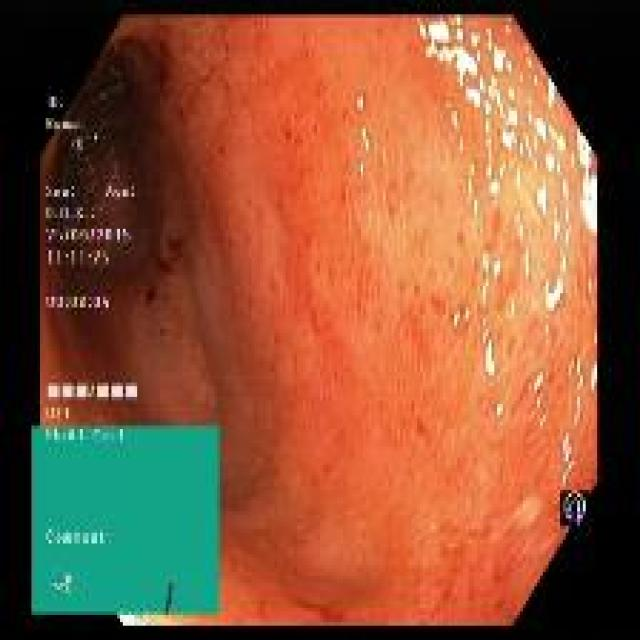ulcerative-colitis: (155, 17, 598, 622)
